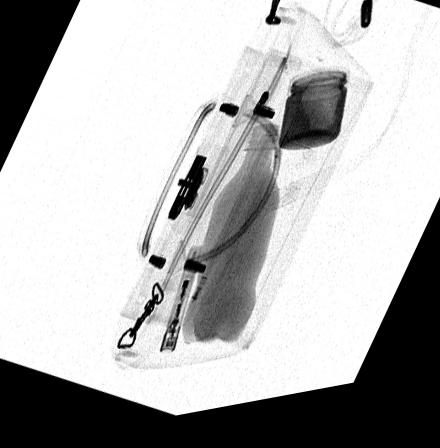Lighter: (158, 253, 203, 360)
